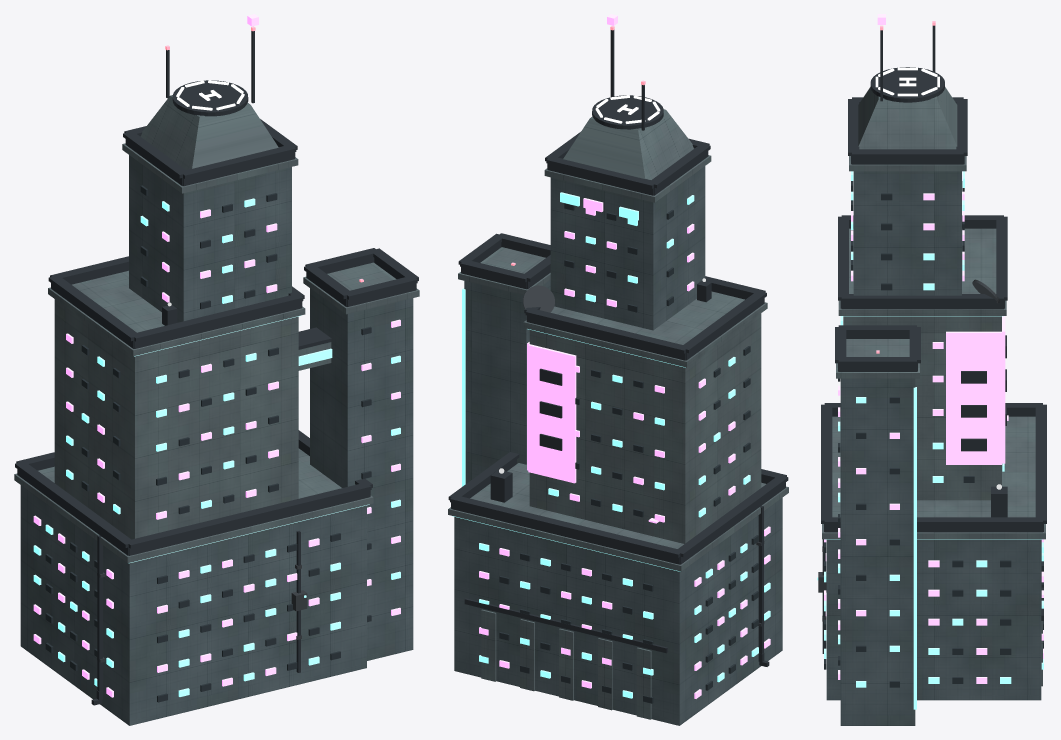
Rendered from synthwave-mega.glb.
The picture shows the model from 3 angles, left to right: view 1: azimuth 30°, elevation 25°; view 2: azimuth 150°, elevation 25°; view 3: azimuth 270°, elevation 25°; orthographic projection. The views are drawn at different scales.
Parts seen in each view (by area): view 1: Mega_Body, Mega_Body2, Mega_Frame, Mega_PaneOff, Mega_PaneADim, Mega_PaneBDim, RK_Helipad, Mega_PaneB, Mega_PaneAHot; view 2: Mega_Body, Mega_Body2, Mega_Frame, Mega_MegaAd, Mega_PaneOff, Mega_PaneADim, Mega_PaneBDim, RK_Helipad, Mega_MegaBand, Mega_PaneB, Mega_PaneAHot, RK_MegaDish (+1 smaller); view 3: Mega_Body, Mega_Body2, Mega_Frame, Mega_MegaAd, Mega_PaneOff, RK_Helipad, Mega_PaneADim, Mega_MegaBand, Mega_PaneBDim, Mega_PaneB, RK_MegaVent, Mega_PaneAHot.
Part boxes in pixels (left/top/right/bottom): Mega_Body: left=20, top=155, right=413, bottom=725; Mega_Body2: left=14, top=95, right=419, bottom=562; Mega_Frame: left=15, top=119, right=418, bottom=705; Mega_PaneOff: left=45, top=185, right=371, bottom=702; Mega_PaneADim: left=33, top=209, right=400, bottom=697; Mega_PaneBDim: left=33, top=201, right=400, bottom=686; RK_Helipad: left=172, top=80, right=248, bottom=116; Mega_PaneB: left=33, top=198, right=340, bottom=696; Mega_PaneAHot: left=33, top=259, right=297, bottom=679; Mega_Body: left=454, top=166, right=782, bottom=725; Mega_Body2: left=448, top=109, right=788, bottom=719; Mega_Frame: left=448, top=132, right=788, bottom=666; Mega_MegaAd: left=527, top=342, right=576, bottom=483; Mega_PaneOff: left=499, top=203, right=758, bottom=703; Mega_PaneADim: left=479, top=198, right=770, bottom=698; Mega_PaneBDim: left=479, top=192, right=770, bottom=698; RK_Helipad: left=592, top=95, right=663, bottom=129; Mega_MegaBand: left=452, top=288, right=685, bottom=571; Mega_PaneB: left=540, top=206, right=770, bottom=678; Mega_PaneAHot: left=561, top=231, right=770, bottom=665; RK_MegaDish: left=523, top=285, right=554, bottom=312; Mega_Body: left=826, top=171, right=1041, bottom=725; Mega_Body2: left=822, top=87, right=1045, bottom=686; Mega_Frame: left=821, top=97, right=1046, bottom=653; Mega_MegaAd: left=946, top=316, right=1005, bottom=464; Mega_PaneOff: left=824, top=181, right=1043, bottom=687; RK_Helipad: left=870, top=67, right=944, bottom=102; Mega_PaneADim: left=824, top=171, right=1043, bottom=683; Mega_MegaBand: left=825, top=316, right=1042, bottom=709; Mega_PaneBDim: left=824, top=171, right=1043, bottom=687; Mega_PaneB: left=824, top=171, right=987, bottom=683; RK_MegaVent: left=991, top=486, right=1007, bottom=517; Mega_PaneAHot: left=825, top=211, right=987, bottom=625.
Bounding box in the file's own units: 1.87 × 3.8 × 1.23.
19 materials, 2 textured.
